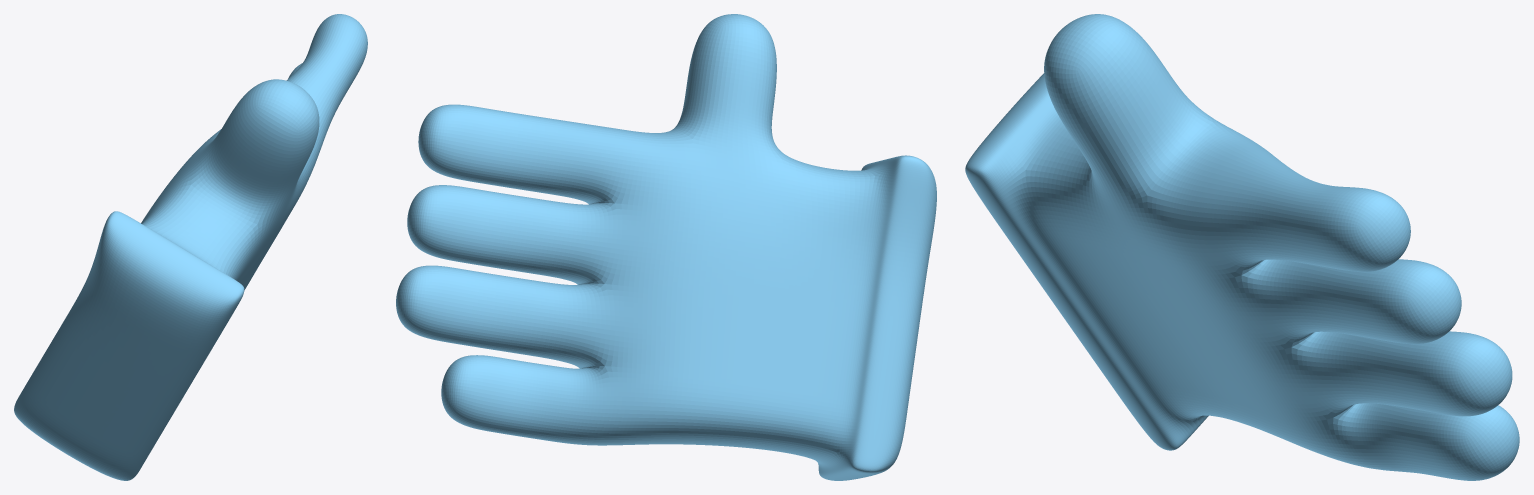
Rendered from hand.fbx.
3 renders of one model, left to right at view 1: azimuth 30°, elevation 25°; view 2: azimuth 150°, elevation 25°; view 3: azimuth 270°, elevation 25°, orthographic. The views are drawn at different scales.
Parts seen in each view (by area): view 1: 立方體; view 2: 立方體; view 3: 立方體.
Boxes of the visible parts, bbox=[...] form: 立方體: bbox=[14, 14, 367, 480]; 立方體: bbox=[396, 14, 936, 480]; 立方體: bbox=[965, 14, 1519, 480].
Bounding box in the file's own units: 102 × 95.8 × 94.98.
